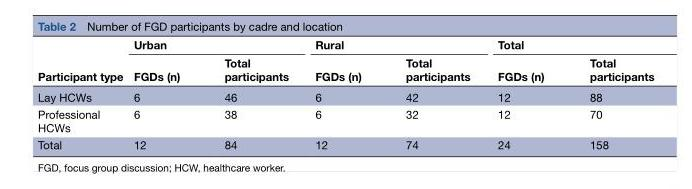table: (37, 37, 653, 150)
table column: (382, 37, 483, 150), (201, 37, 301, 150), (37, 37, 127, 150), (566, 37, 653, 150), (483, 37, 566, 150), (301, 37, 382, 150), (127, 37, 201, 150)
table column header: (37, 37, 653, 86)
table row: (37, 53, 653, 86), (37, 105, 653, 135), (37, 86, 653, 105), (37, 37, 653, 53), (37, 135, 653, 150)
table spanning cell: (37, 37, 127, 86), (301, 37, 483, 53), (127, 37, 301, 53), (483, 37, 653, 53)
